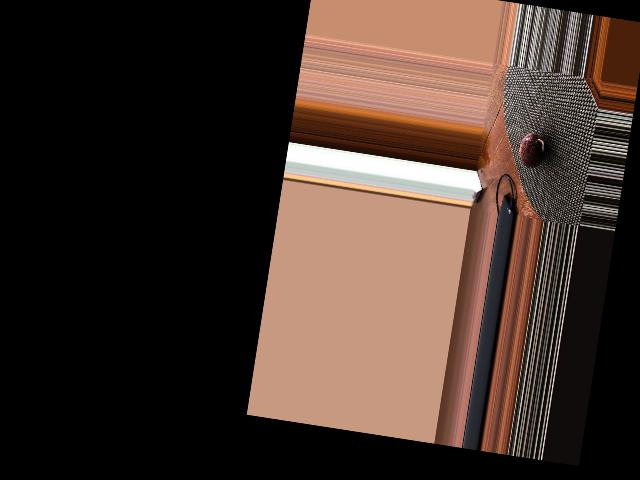beet: (517, 131, 548, 169)
